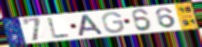6: (130, 8, 152, 32), (155, 7, 177, 29)
7: (21, 17, 43, 42)
A: (78, 14, 106, 37)
G: (101, 11, 126, 34)
L: (47, 17, 71, 39)
